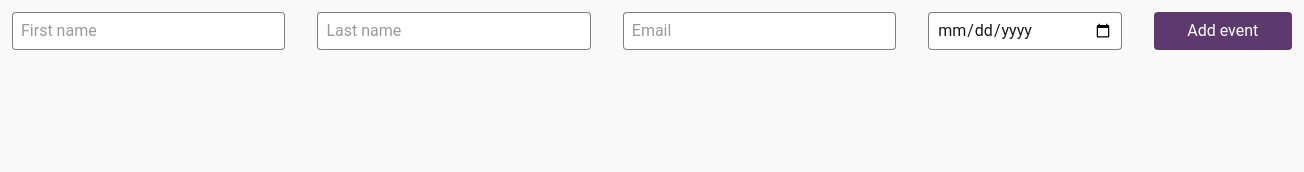
Test: <EventsMaker/> › confirm button › should show inputs errors once clicked
Expected: the text "First name is required" is not shown
Expected: the text "Last name is required" is not shown
Click the button "Add event".
click(1223, 31)  # box [1154,12,1292,50]
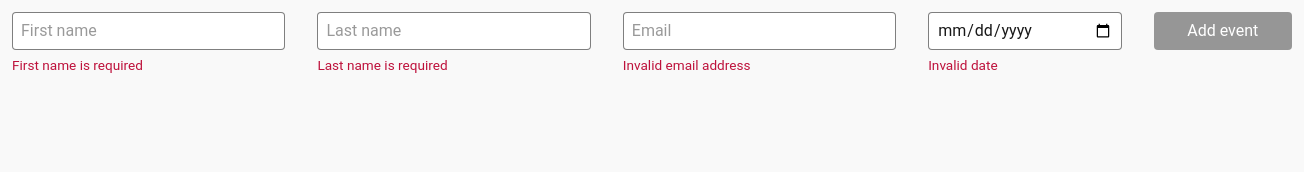
Expected: the text "First name is required" is shown, [12,57,143,73]
Expected: the text "Last name is required" is shown, [317,57,448,73]
Expected: the text "Invalid date" is shown, [928,57,998,73]
